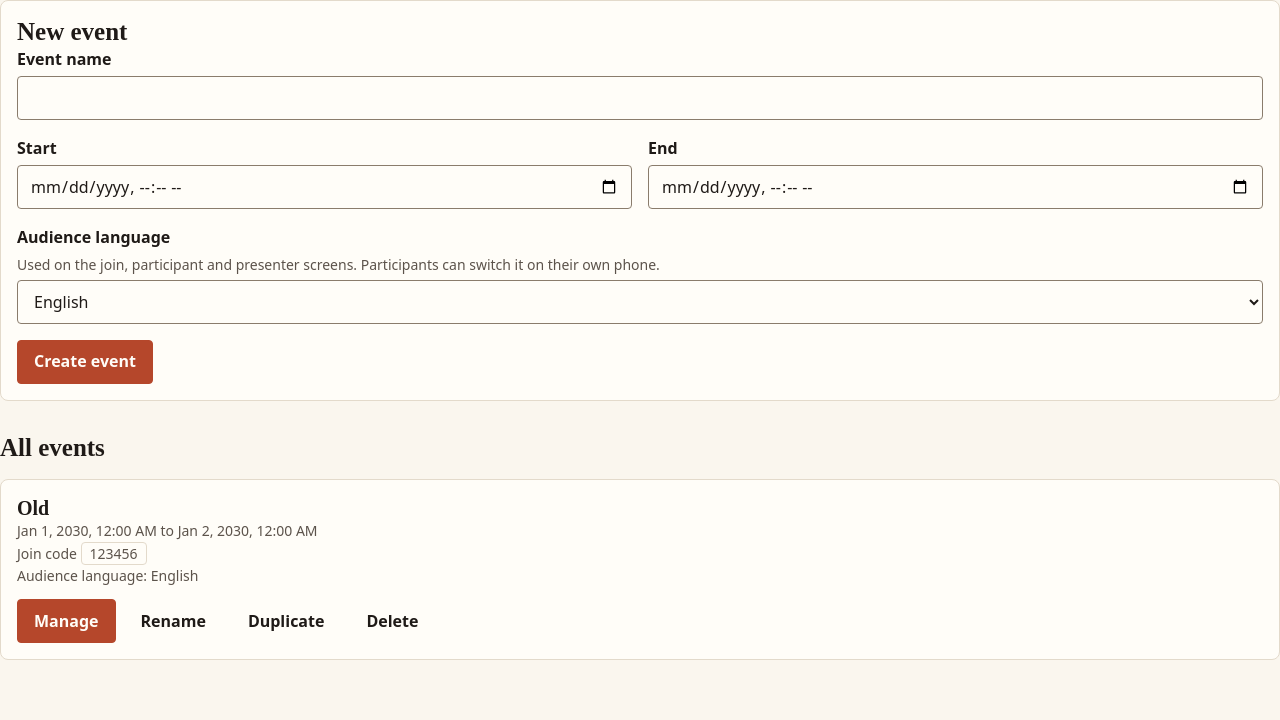
Scenario: EventManager › renames an event
Step 1. Click the button "Rename" → coordinates (173, 621), box [124,599,223,643]
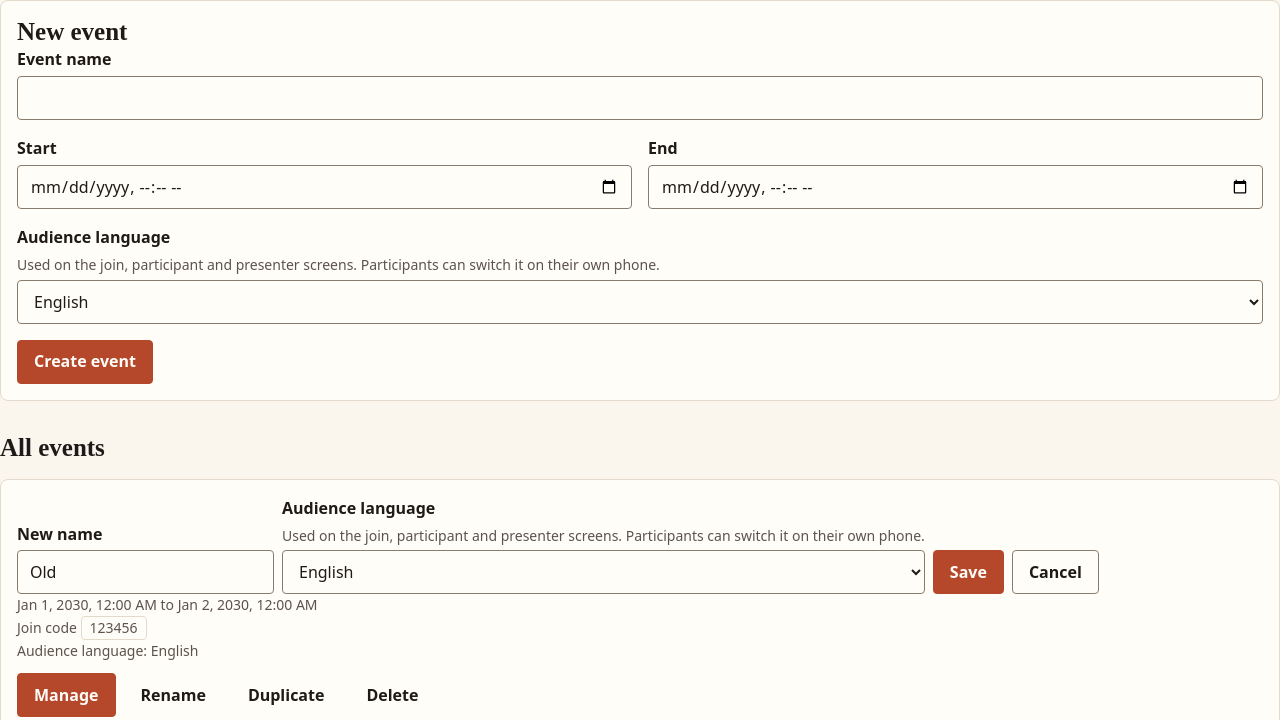
Step 2. Replace the text in the field labelled "New name" with "Renamed" → coordinates (146, 572), box [17,550,274,594]
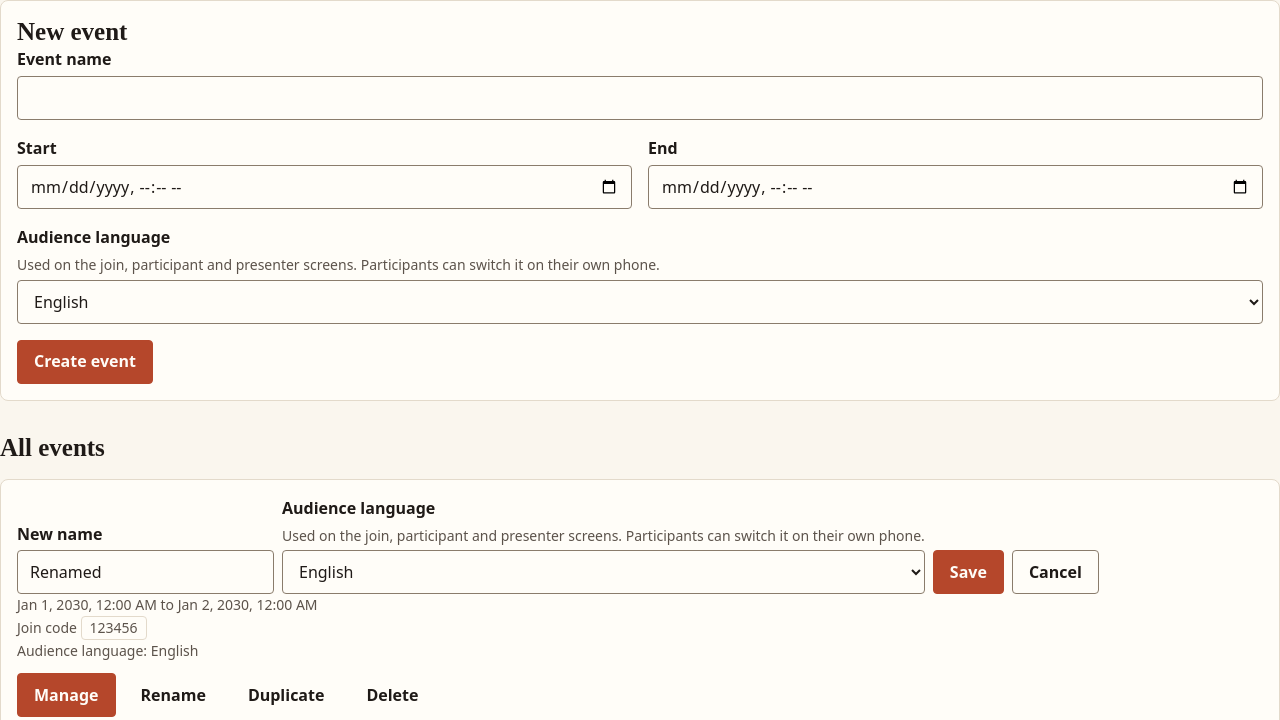
Step 3. Click the button "Save" → coordinates (968, 572), box [933,550,1004,594]
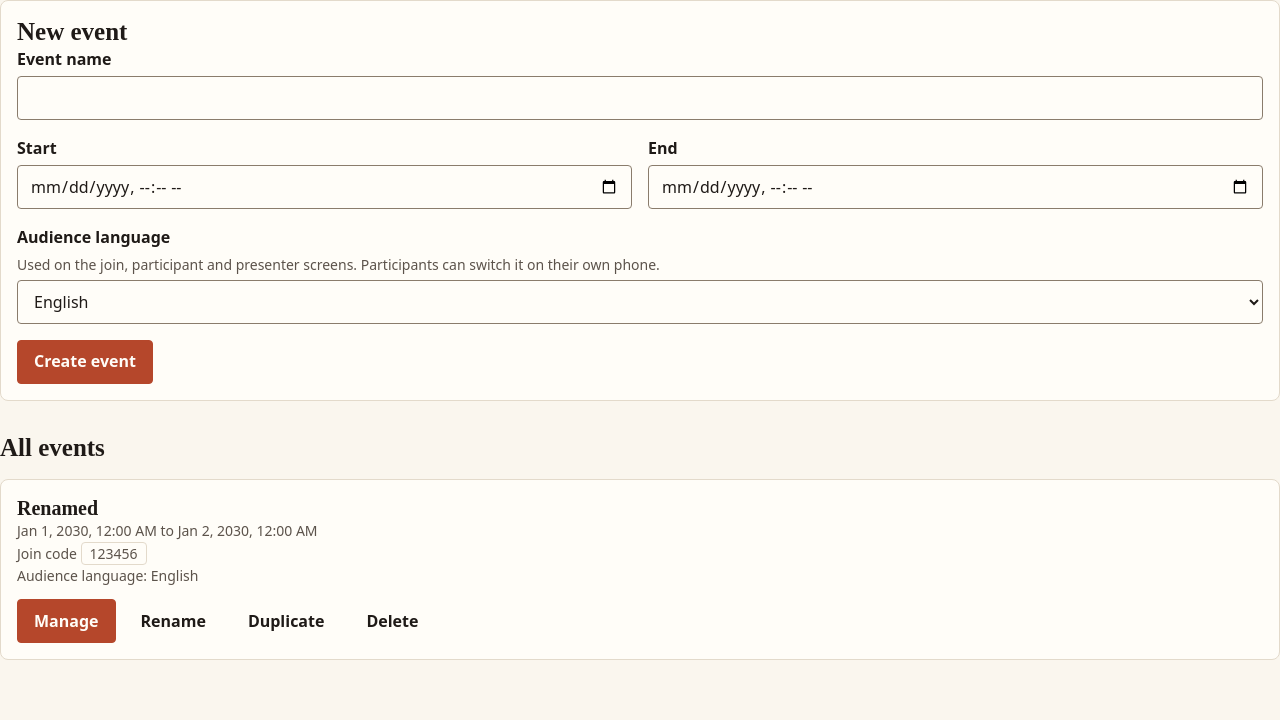
Expected: the heading "Renamed" is shown, [17,497,98,519]
